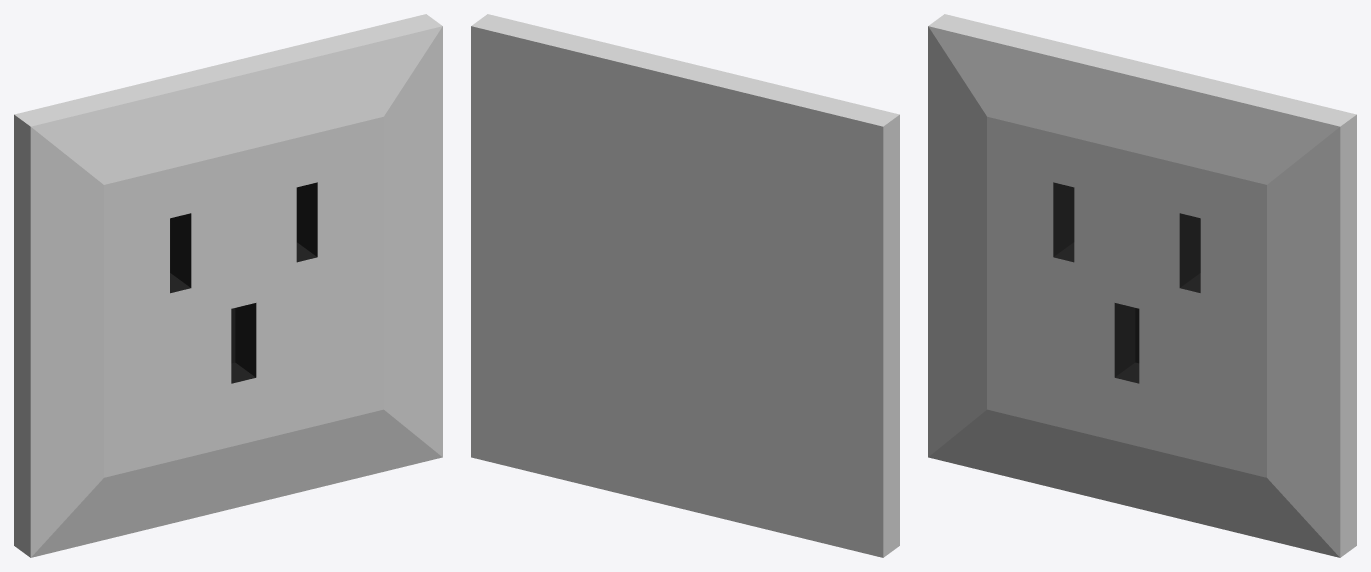
The model's file is WallOutlet.fbx.
3 views of the same model, side by side, from view 1: azimuth 30°, elevation 25°; view 2: azimuth 150°, elevation 25°; view 3: azimuth 330°, elevation 25° (orthographic).
Parts seen in each view (by area): view 1: WallOutlet; view 2: WallOutlet; view 3: WallOutlet.
Part boxes in pixels (x1,y1,x2,y2): WallOutlet: (14,14,442,557); WallOutlet: (471,14,899,557); WallOutlet: (928,14,1356,557).
Bounding box in the file's own units: 11.67 × 11.67 × 1.16.
